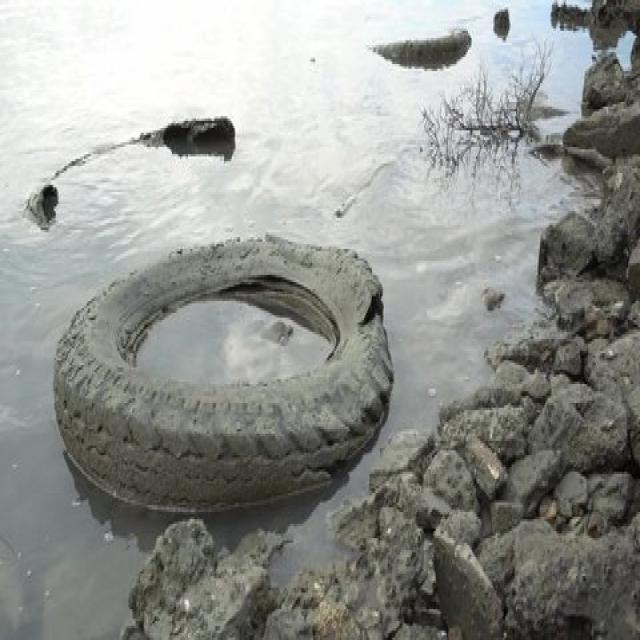tire: (52, 230, 395, 514)
